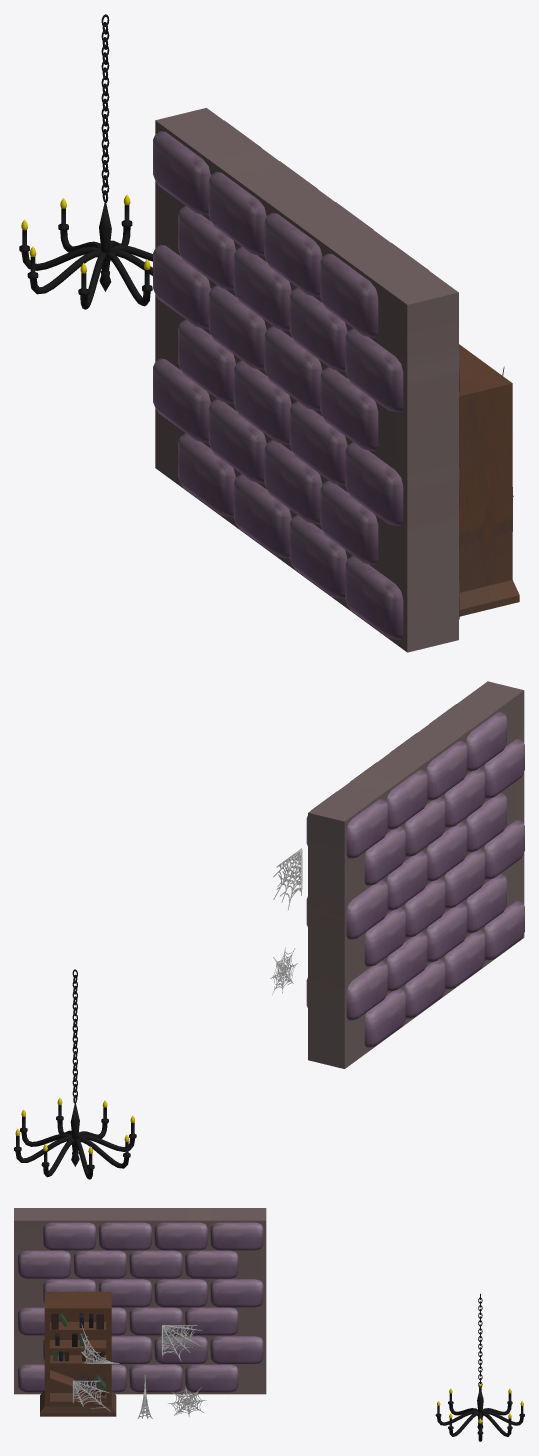
File: Environment.fbx
3 views of the same model, one above another, from view 1: azimuth 30°, elevation 25°; view 2: azimuth 150°, elevation 25°; view 3: azimuth 270°, elevation 25° (orthographic). The views are drawn at different scales.
Visible parts, largest first — view 1: Cube.000, Cube, Torus.023; view 2: Cube.000, Torus.023, cob4; view 3: Cube.000, Cube, Torus.023, cob4, cob1, cob3, cob5.
Part boxes in pixels (x1=…): Cube.000: x1=153, y1=108, x2=459, y2=652; Cube: x1=459, y1=344, x2=519, y2=616; Torus.023: x1=19, y1=14, x2=152, y2=309; Cube.000: x1=306, y1=681, x2=524, y2=1068; Torus.023: x1=14, y1=969, x2=136, y2=1179; cob4: x1=273, y1=848, x2=302, y2=909; Cube.000: x1=14, y1=1208, x2=266, y2=1394; Cube: x1=40, y1=1291, x2=116, y2=1416; Torus.023: x1=435, y1=1293, x2=524, y2=1441; cob4: x1=161, y1=1325, x2=201, y2=1361; cob1: x1=72, y1=1380, x2=110, y2=1411; cob3: x1=168, y1=1386, x2=206, y2=1416; cob5: x1=81, y1=1323, x2=119, y2=1363.
Size of the model in its own units: 696 by 973 by 2444.
